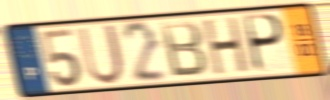2: (121, 19, 172, 88)
5: (40, 27, 84, 89)
B: (157, 19, 210, 80)
H: (202, 14, 251, 78)
P: (244, 12, 287, 75)
U: (75, 22, 126, 88)
